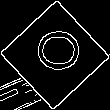O_W: (29, 32, 81, 78)
